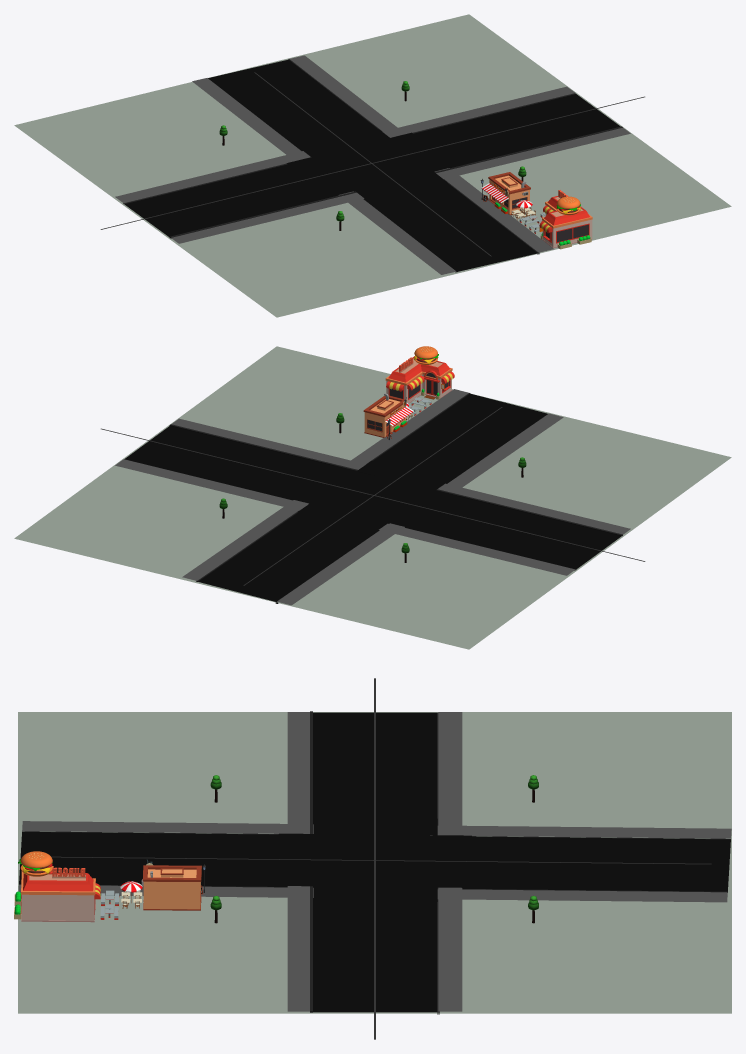
3 views of the same model, one above another, from view 1: azimuth 30°, elevation 25°; view 2: azimuth 150°, elevation 25°; view 3: azimuth 270°, elevation 25° (orthographic). The views are drawn at different scales.
Parts seen in each view (by area): view 1: chão_1, rua_principal-1.001, rua_principal-1, guia-rua-1-1, guia-rua-1-2, guia-rua-1-1.001, guia-rua-1-2.001, BurgerBuilding, RestaurantBuilding, MEIO-rua, MEIO-rua.001, MEIO-rua.002 (+4 smaller); view 2: chão_1, rua_principal-1, rua_principal-1.001, guia-rua-1-1, guia-rua-1-2.001, guia-rua-1-1.001, guia-rua-1-2, BurgerBuilding, RestaurantBuilding, MEIO-rua.001, MEIO-rua, MEIO-rua.003 (+3 smaller); view 3: chão_1, rua_principal-1, rua_principal-1.001, guia-rua-1-2.001, guia-rua-1-1, guia-rua-1-2, guia-rua-1-1.001, BurgerBuilding, RestaurantBuilding, MEIO-rua.002, MEIO-rua, MEIO-rua.001 (+6 smaller).
Part boxes in pixels (box(x1,y1,x2,y2)): chão_1: box(14, 14, 731, 317); rua_principal-1.001: box(208, 60, 537, 271); rua_principal-1: box(124, 94, 620, 237); guia-rua-1-1: box(115, 86, 574, 203); guia-rua-1-2: box(171, 127, 630, 243); guia-rua-1-1.001: box(290, 55, 553, 252); guia-rua-1-2.001: box(192, 78, 456, 274); BurgerBuilding: box(539, 196, 592, 248); RestaurantBuilding: box(481, 172, 530, 215); MEIO-rua: box(299, 129, 392, 158); MEIO-rua.001: box(355, 171, 446, 200); MEIO-rua.002: box(286, 157, 356, 196); chão_1: box(14, 346, 731, 649); rua_principal-1: box(124, 426, 621, 569); rua_principal-1.001: box(198, 393, 547, 601); guia-rua-1-1: box(115, 459, 575, 575); guia-rua-1-2.001: box(277, 413, 563, 605); guia-rua-1-1.001: box(182, 389, 468, 580); guia-rua-1-2: box(171, 418, 630, 534); BurgerBuilding: box(385, 356, 454, 403); RestaurantBuilding: box(363, 393, 413, 437); MEIO-rua.001: box(357, 461, 448, 490); MEIO-rua: box(298, 502, 389, 531); MEIO-rua.003: box(288, 465, 358, 504); chão_1: box(18, 712, 731, 1013); rua_principal-1: box(313, 712, 436, 1012); rua_principal-1.001: box(19, 832, 730, 891); guia-rua-1-2.001: box(22, 821, 731, 838); guia-rua-1-1: box(438, 712, 462, 1011); guia-rua-1-2: box(287, 712, 309, 1011); guia-rua-1-1.001: box(18, 884, 727, 902); BurgerBuilding: box(21, 866, 100, 922); RestaurantBuilding: box(141, 859, 201, 910); MEIO-rua.002: box(313, 818, 437, 835); MEIO-rua: box(429, 835, 471, 887); MEIO-rua.001: box(275, 833, 317, 886).
Size of what is drawn, in the model's own units: 53.84 by 3.91 by 45.25.
Materials: 36 (2 with a texture image).
